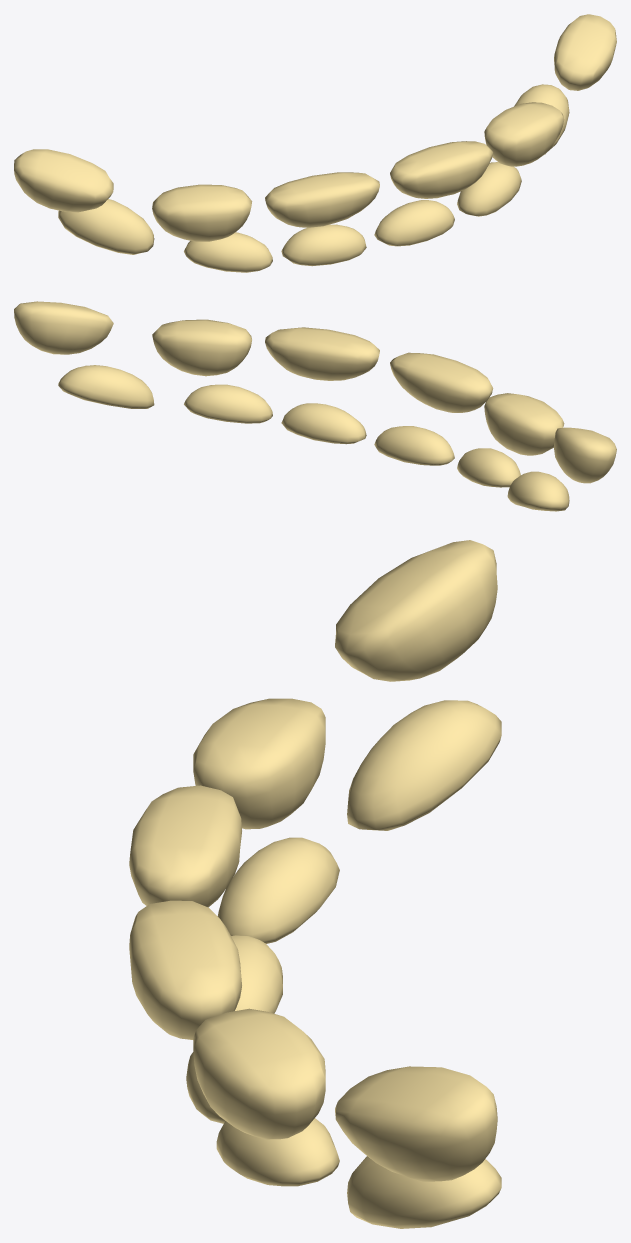
Rendered from dientesd1.obj.
3 renders of one model, top to bottom at view 1: azimuth 30°, elevation 25°; view 2: azimuth 150°, elevation 25°; view 3: azimuth 270°, elevation 25°, orthographic. The views are drawn at different scales.
Visible parts, largest first — view 1: Teeth_001; view 2: Teeth_001; view 3: Teeth_001.
Boxes of the visible parts, x1,y1,x2,y2 form: Teeth_001: (14, 14, 616, 272); Teeth_001: (14, 301, 616, 511); Teeth_001: (129, 540, 501, 1228).
Bounding box in the file's own units: 0.1352 × 0.0256 × 0.0366.
